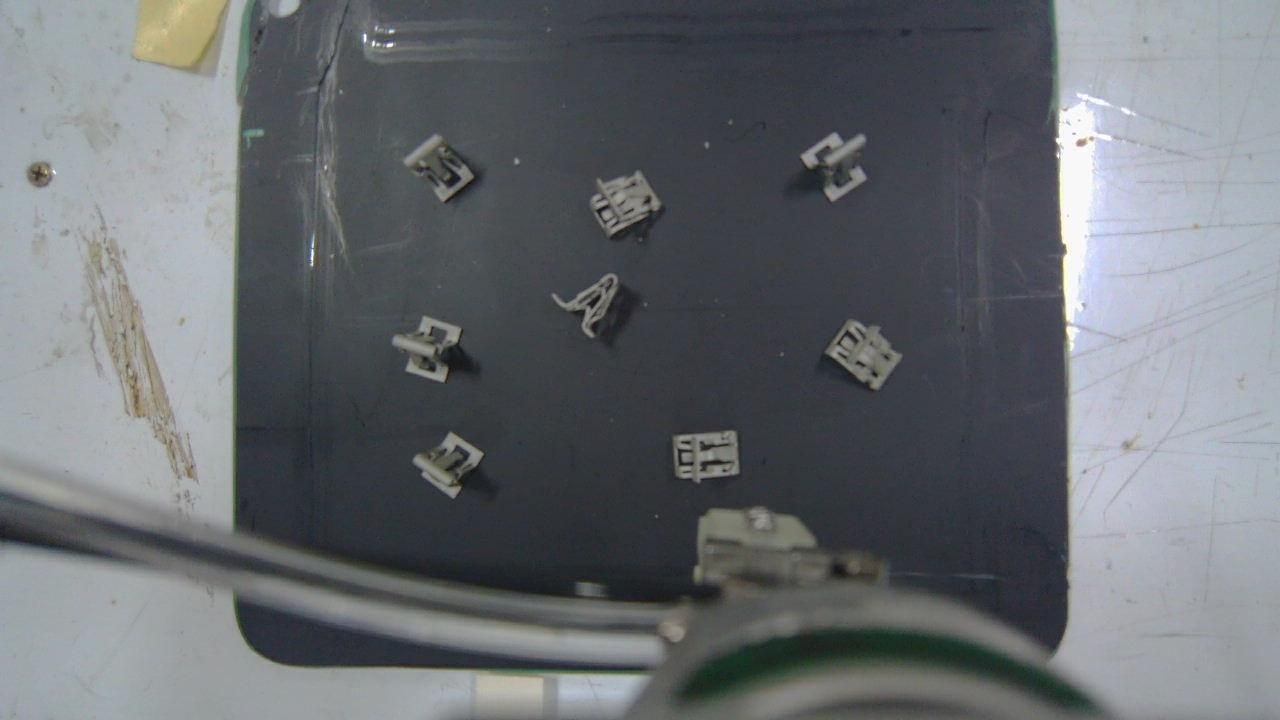ng: (830, 322, 905, 393), (404, 130, 475, 204), (587, 170, 663, 236), (413, 433, 485, 497), (554, 273, 619, 339), (674, 430, 740, 478)
pass: (393, 315, 462, 384), (802, 133, 868, 204)
